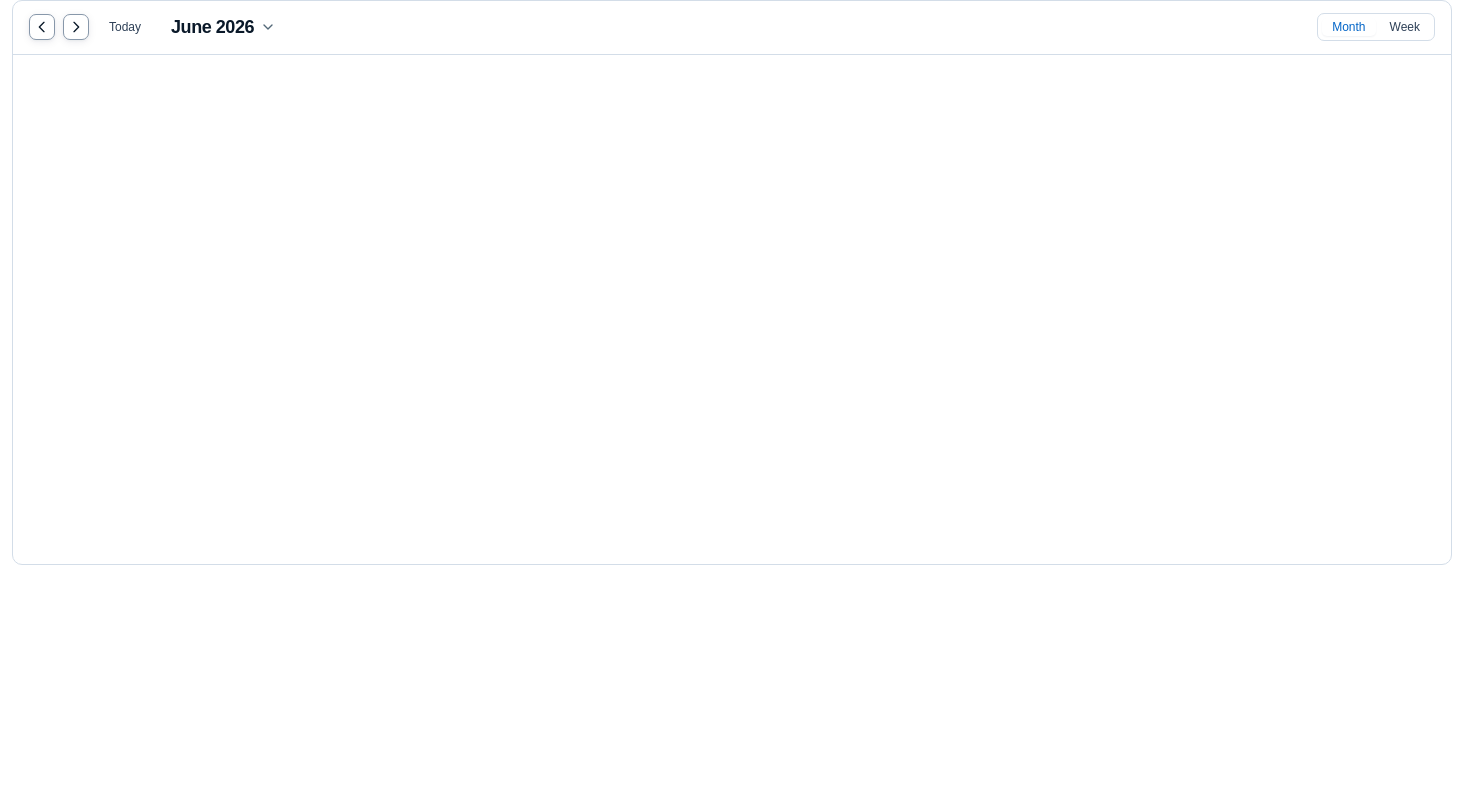
Scenario: Scheduler › pages to the next month when Next is clicked
Click the button named "Next".
click(76, 27)  # box [63, 14, 89, 40]
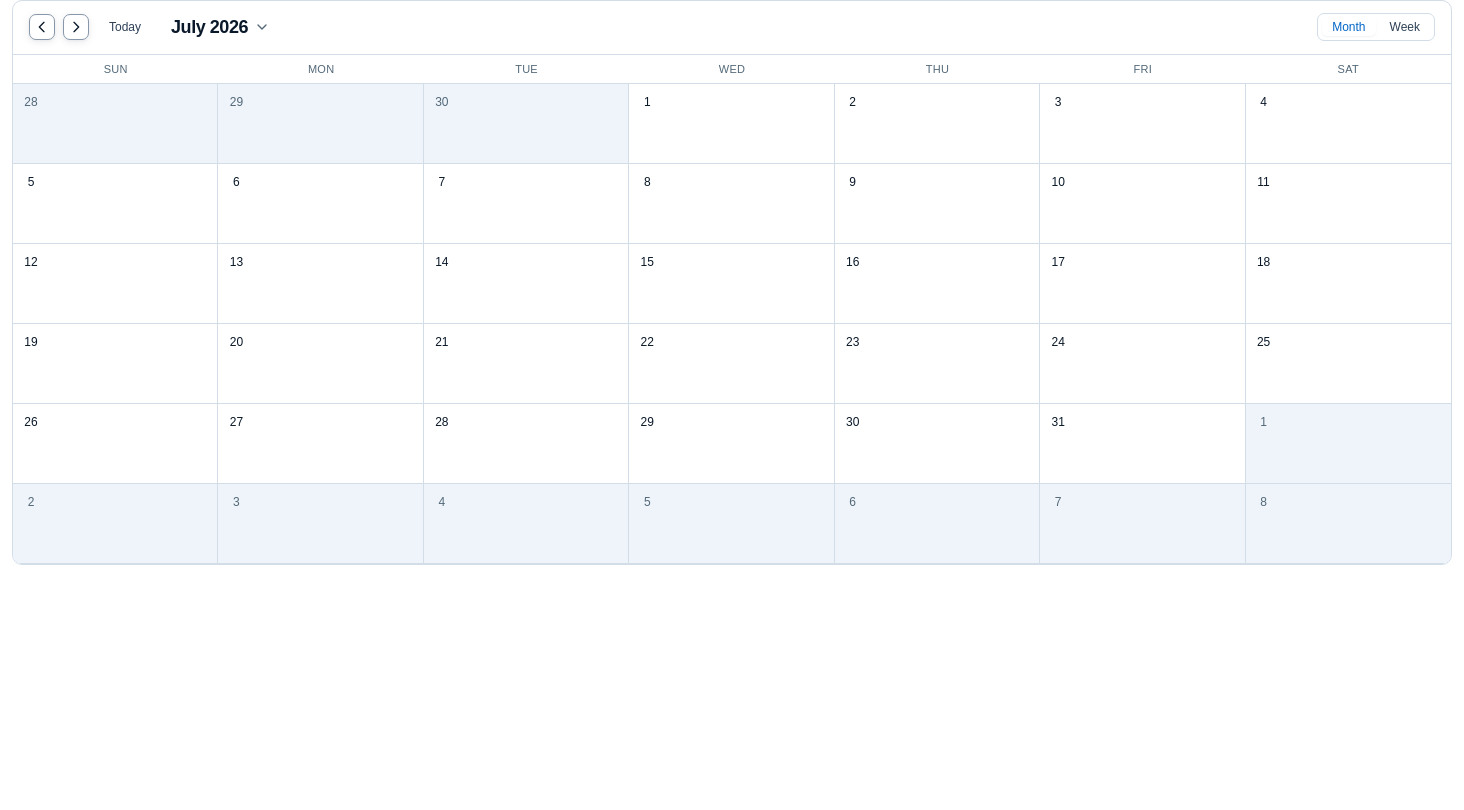
Check: the button "July 2026" is shown, box [165, 13, 276, 42]
